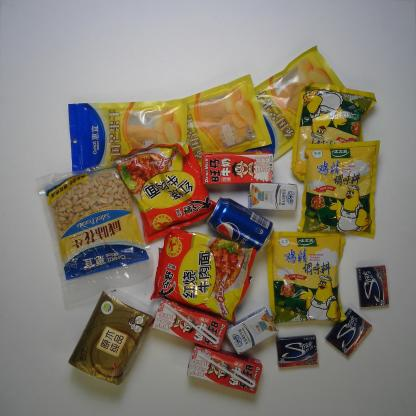Dried Fruit: (34, 155, 156, 308), (224, 44, 354, 172), (151, 71, 274, 173), (63, 95, 194, 180)
Drink: (204, 194, 276, 256)
Gum: (325, 306, 373, 360), (274, 333, 321, 372), (354, 264, 390, 308)
Instant Noodles: (112, 136, 223, 243), (147, 224, 259, 328)
Milk: (149, 296, 230, 354), (182, 344, 263, 398), (201, 146, 277, 188), (224, 307, 282, 359), (243, 178, 302, 212)
Seasoner: (289, 80, 376, 186), (292, 139, 382, 241), (260, 226, 351, 326)
Tissue: (66, 286, 159, 390)
